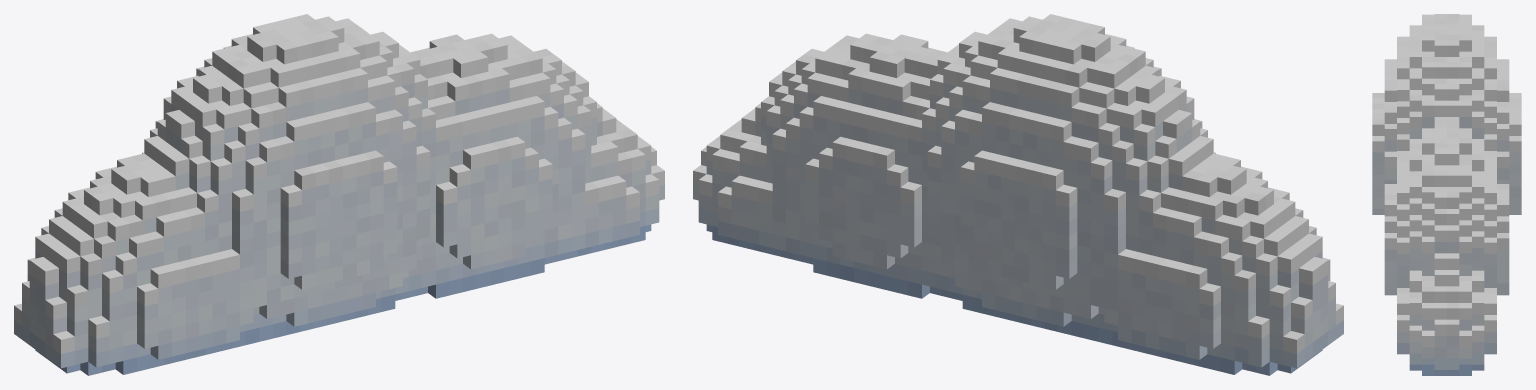
File: cloud_voxel_a.glb
3 renders of one model, left to right at view 1: azimuth 30°, elevation 25°; view 2: azimuth 150°, elevation 25°; view 3: azimuth 270°, elevation 25°, orthographic. The views are drawn at different scales.
Parts seen in each view (by area): view 1: Cloud.001; view 2: Cloud.001; view 3: Cloud.001.
Part boxes in pixels (bbox=[...]): Cloud.001: bbox=[14, 14, 664, 375]; Cloud.001: bbox=[693, 14, 1343, 375]; Cloud.001: bbox=[1372, 14, 1521, 375].
Size of the model in its own units: 1.8 by 0.76 by 0.48.
